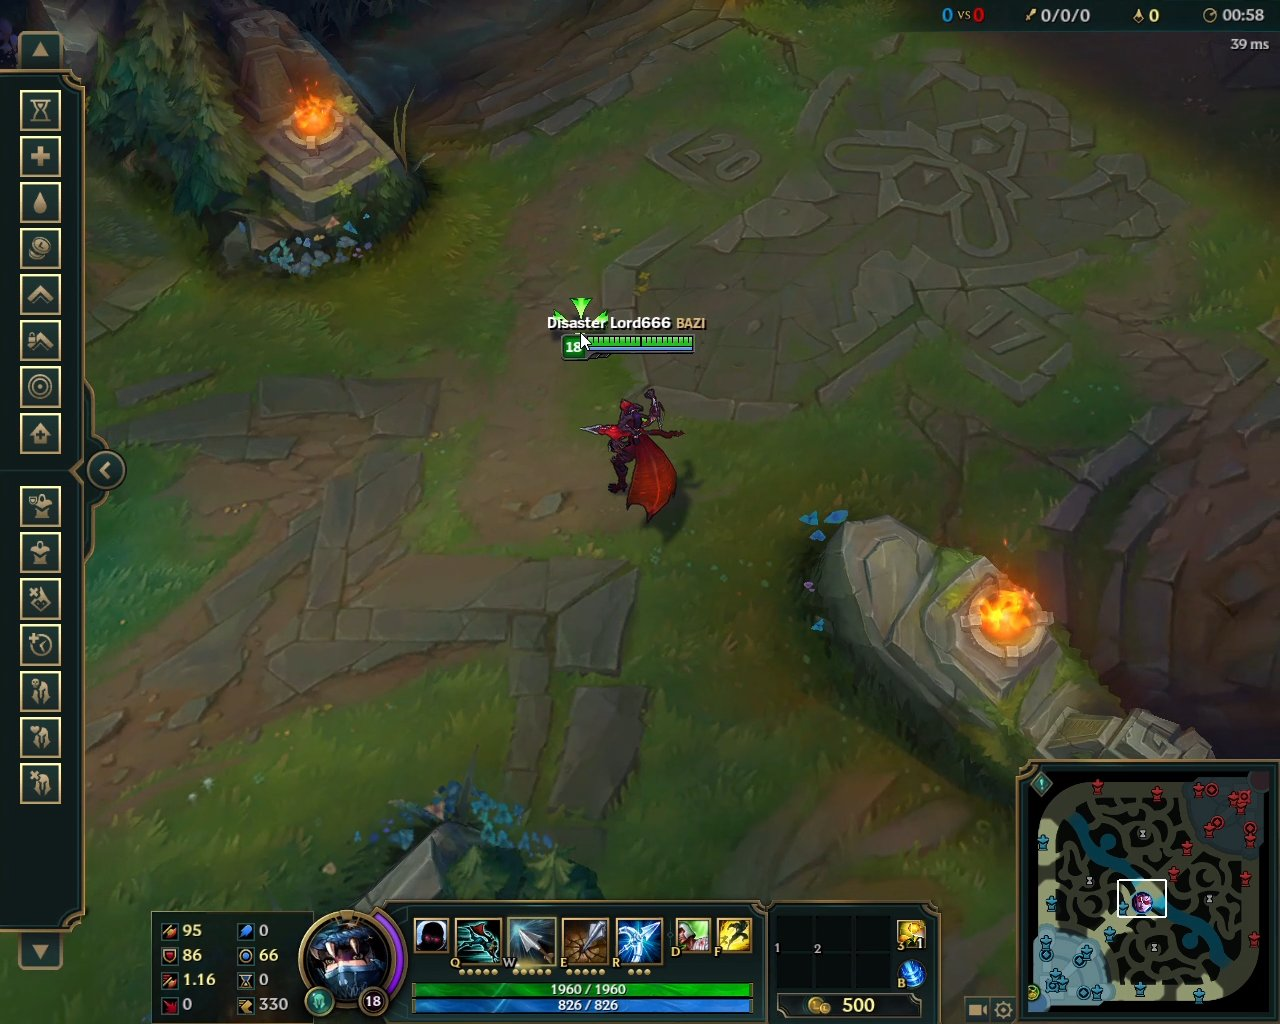Vayne: (581, 387, 695, 533)
